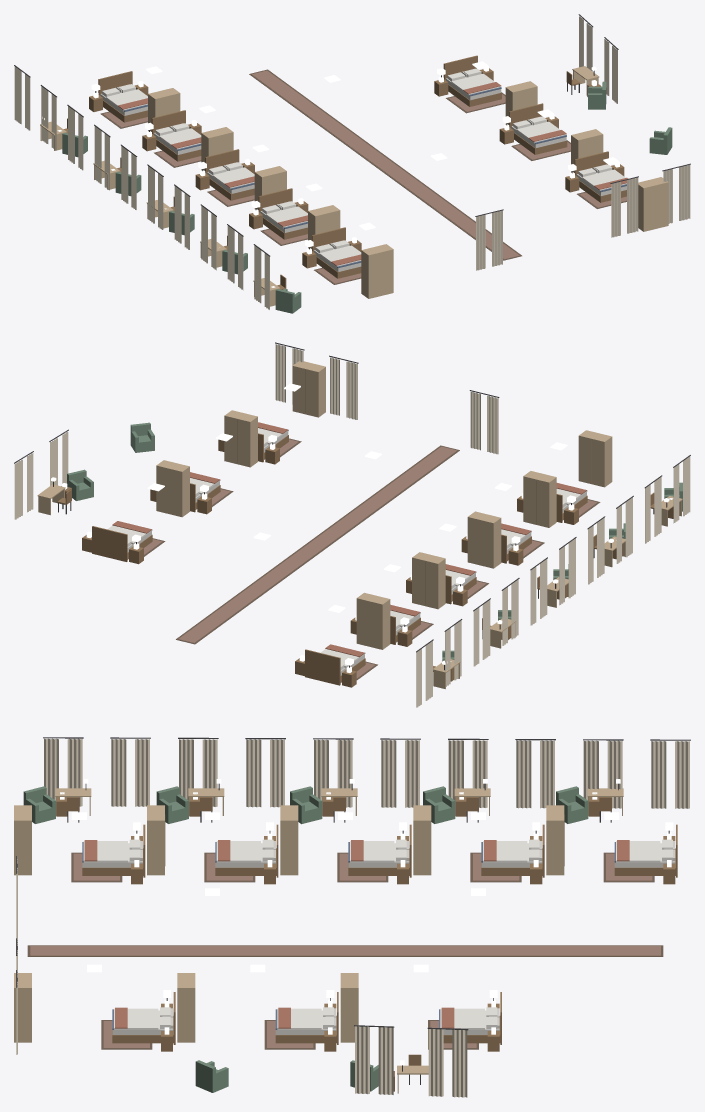
File: fine-s1.glb
The picture shows the model from 3 angles, top to bottom: view 1: azimuth 30°, elevation 25°; view 2: azimuth 150°, elevation 25°; view 3: azimuth 270°, elevation 25°; orthographic projection. The views are drawn at different scales.
Parts seen in each view (by area): view 1: soft-s1, dresser.007, dresser.002, bed-frame.000, bed-frame.001, bed-frame.004, bed-frame.005, bed-frame.006, bed-frame.007, bed-frame.003, bed-frame.002, dresser.000 (+8 smaller); view 2: soft-s1, dresser.007, dresser.003, dresser.005, dresser.004, dresser.006, dresser.001, dresser.000, dresser.002, bed-frame.000, bed-frame.003, lounge-chair.001 (+2 smaller); view 3: soft-s1, dresser.003, dresser.004, dresser.005, dresser.001, dresser.006, dresser.000, dresser.007, dresser.002, bed-frame.005, bed-frame.004, bed-frame.006 (+11 smaller).
Boxes of the visible parts, x1=… form: soft-s1: x1=14, y1=14, x2=690, y2=309; dresser.007: x1=361, y1=244, x2=393, y2=298; dresser.002: x1=638, y1=177, x2=668, y2=231; bed-frame.000: x1=443, y1=55, x2=501, y2=106; bed-frame.001: x1=509, y1=103, x2=567, y2=154; bed-frame.004: x1=151, y1=110, x2=201, y2=161; bed-frame.005: x1=205, y1=149, x2=254, y2=200; bed-frame.006: x1=258, y1=188, x2=307, y2=239; bed-frame.007: x1=312, y1=227, x2=361, y2=278; bed-frame.003: x1=98, y1=71, x2=147, y2=122; bed-frame.002: x1=574, y1=151, x2=626, y2=202; dresser.000: x1=505, y1=81, x2=537, y2=124; soft-s1: x1=14, y1=342, x2=690, y2=707; dresser.007: x1=578, y1=430, x2=612, y2=487; dresser.003: x1=356, y1=592, x2=390, y2=649; dresser.005: x1=467, y1=511, x2=501, y2=568; dresser.004: x1=412, y1=552, x2=445, y2=609; dresser.006: x1=523, y1=471, x2=556, y2=527; dresser.001: x1=224, y1=410, x2=257, y2=467; dresser.000: x1=156, y1=460, x2=189, y2=517; dresser.002: x1=292, y1=361, x2=325, y2=417; bed-frame.000: x1=92, y1=526, x2=152, y2=561; bed-frame.003: x1=305, y1=649, x2=365, y2=685; lounge-chair.001: x1=130, y1=422, x2=154, y2=452; soft-s1: x1=16, y1=737, x2=690, y2=1097; dresser.003: x1=546, y1=805, x2=564, y2=875; dresser.004: x1=413, y1=805, x2=431, y2=875; dresser.005: x1=280, y1=805, x2=298, y2=875; dresser.001: x1=177, y1=973, x2=195, y2=1042; dresser.006: x1=147, y1=805, x2=165, y2=875; dresser.000: x1=340, y1=973, x2=358, y2=1042; dresser.007: x1=14, y1=805, x2=31, y2=875; dresser.002: x1=14, y1=973, x2=31, y2=1042; bed-frame.005: x1=348, y1=824, x2=411, y2=877; bed-frame.004: x1=481, y1=824, x2=544, y2=877; bed-frame.006: x1=215, y1=824, x2=278, y2=877.
Bounding box in the file's own units: 23 × 2.56 × 22.52.
